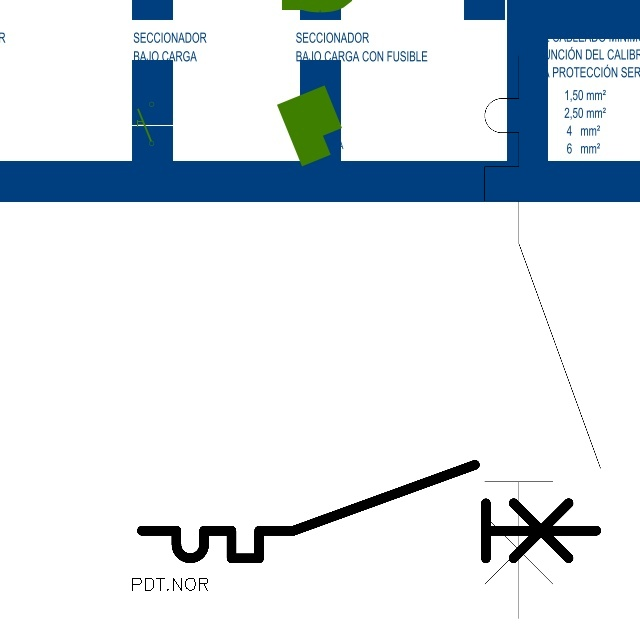interruptor_termomagnetico: (470, 41, 615, 633), (130, 453, 608, 570)
